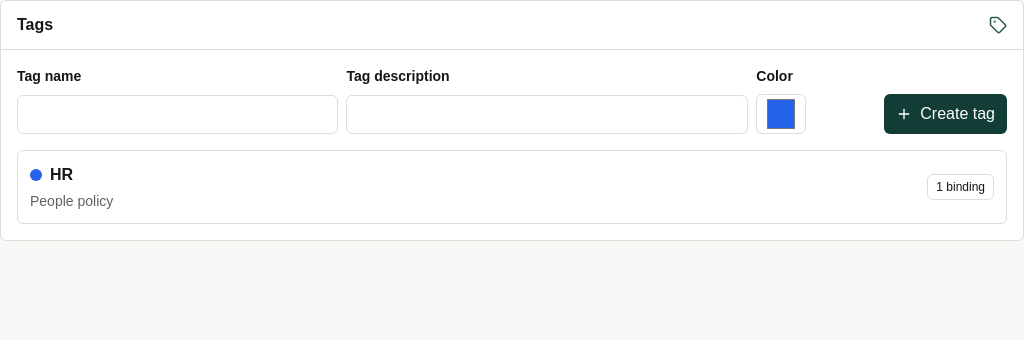
it: TagManager › lists tags and creates a new tag
The image size is (1024, 340).
Expected: the heading "HR" is shown, 50,163 -> 73,187
Expected: the text "People policy" is shown, 30,191 -> 113,211
Step 1. Type "Security" into the field labelled "Tag name" → (178, 114), box 17,95 -> 338,134
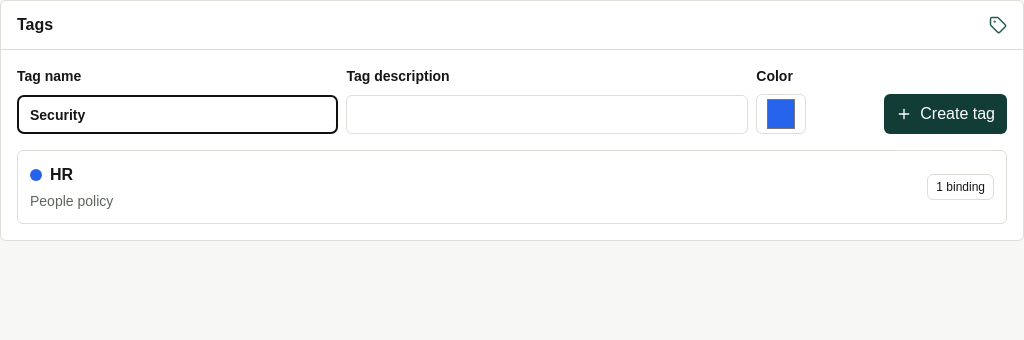
Step 2. Type "Access policy" into the field labelled "Tag description" → (547, 114), box 346,95 -> 748,134
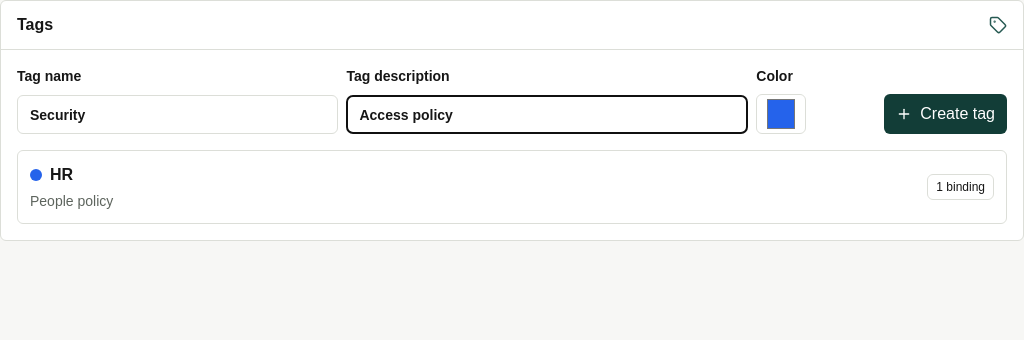
Step 3. Click the button "Create tag" → (946, 114), box 884,94 -> 1007,134
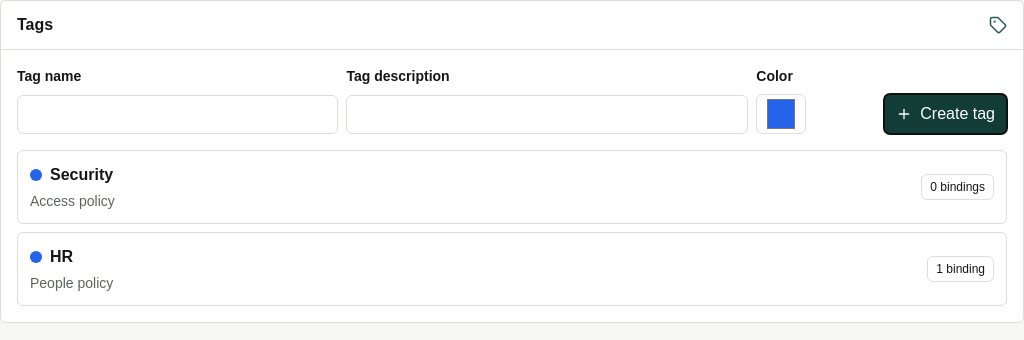
Now the heading "Security" is shown, box 50,163 -> 113,187
Now the text "Access policy" is shown, box 30,191 -> 115,211
